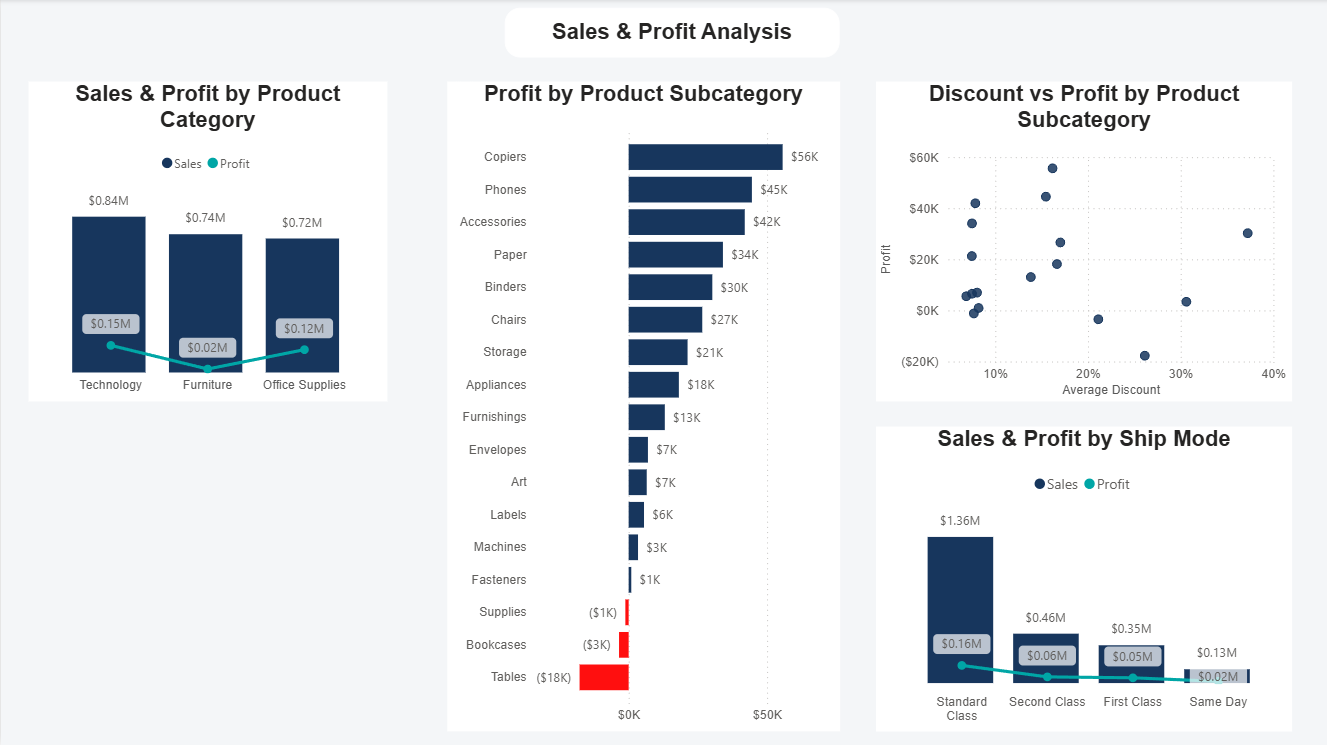

The page's visual inventory and layout, read from the dashboard file:
{"tool":"powerbi","page":{"name":"Sales &Profit Analysis","canvas":[1280,720],"ordinal":1},"visuals":[{"type":"lineStackedColumnComboChart","title":"Sales & Profit by Ship Mode","fields":{"Category":["Copy of Retail Sales Data - orders_cleaned.ship_mode"],"Y":["Sum(Copy of Retail Sales Data - orders_cleaned.sales)"],"Y2":["Sum(Copy of Retail Sales Data - orders_cleaned.profit)"]},"box":[844.5,412.6,401.7,294.4],"z":0},{"type":"scatterChart","title":"Discount vs Profit by Product Subcategory","fields":{"X":["Avg(Copy of Retail Sales Data - orders_cleaned.discount)"],"Y":["Sum(Copy of Retail Sales Data - orders_cleaned.profit)"],"Category":["Copy of Retail Sales Data - orders_cleaned.product_subcategory"]},"box":[844.5,79.6,401.7,308.8],"z":2000},{"type":"clusteredBarChart","title":"Profit by Product Subcategory","fields":{"Category":["Copy of Retail Sales Data - orders_cleaned.product_subcategory"],"Y":["Sum(Copy of Retail Sales Data - orders_cleaned.profit)"]},"box":[430.7,79.6,378.8,627.3],"z":3000},{"type":"lineStackedColumnComboChart","title":"Sales & Profit by Product Category","fields":{"Category":["Copy of Retail Sales Data - orders_cleaned.product_category"],"Y":["Sum(Copy of Retail Sales Data - orders_cleaned.sales)"],"Y2":["Sum(Copy of Retail Sales Data - orders_cleaned.profit)"]},"box":[26.5,79.6,346.2,308.8],"z":4000},{"type":"textbox","box":[486.2,8.4,323.3,48.3],"z":7000}]}

Visuals, with their boxes in screenshot pixels (x1, y1, x2, y2), scaled from the page's 1280x720 canvas onto the 1327x745 screenshot:
"Sales & Profit by Ship Mode" lineStackedColumnComboChart: [x1=876, y1=427, x2=1292, y2=732]
"Discount vs Profit by Product Subcategory" scatterChart: [x1=876, y1=82, x2=1292, y2=402]
"Profit by Product Subcategory" clusteredBarChart: [x1=447, y1=82, x2=839, y2=731]
"Sales & Profit by Product Category" lineStackedColumnComboChart: [x1=27, y1=82, x2=386, y2=402]
textbox: [x1=504, y1=9, x2=839, y2=59]
